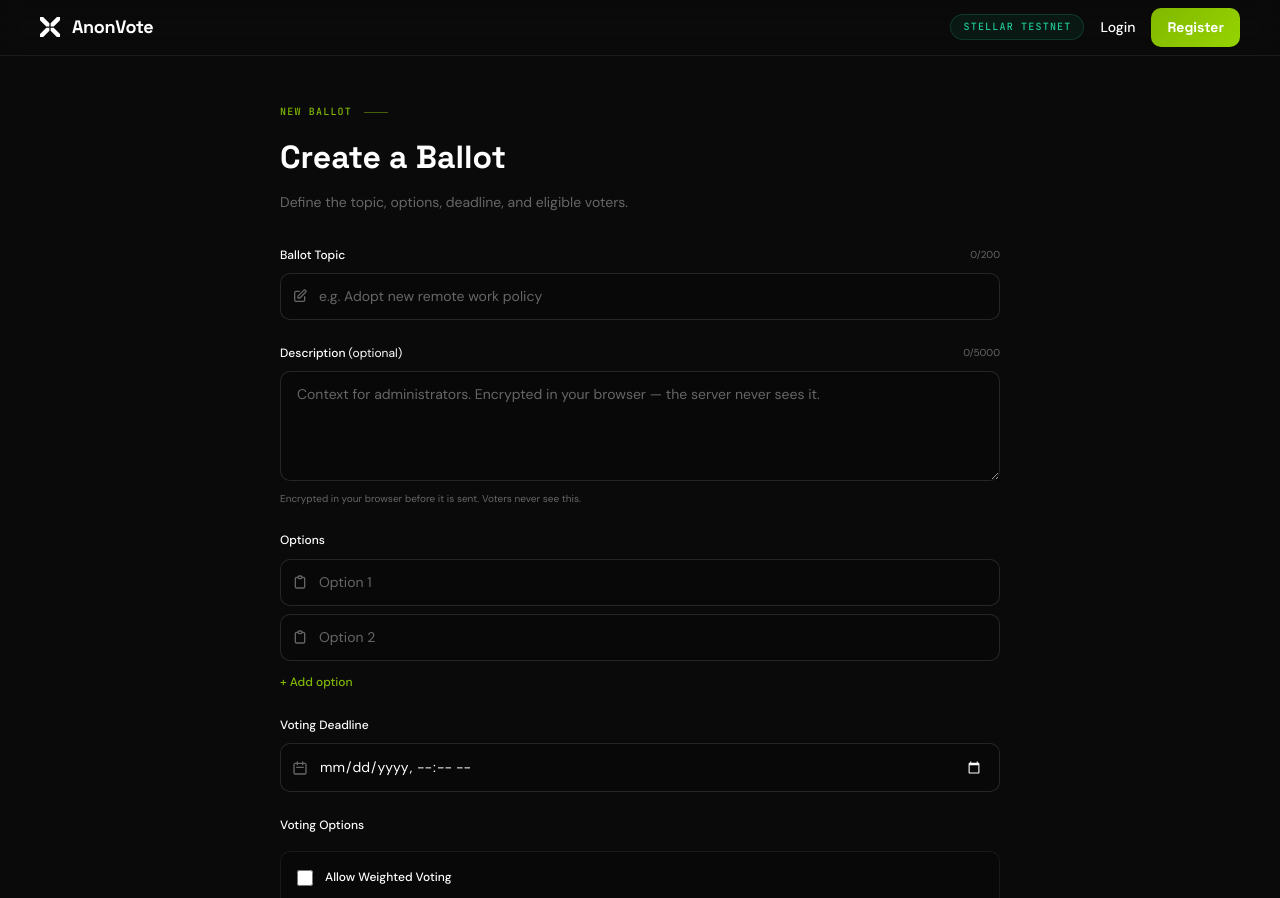
Test: CreateBallotPage › dynamic options: can add and remove options
The image size is (1280, 898).
Add up to 3 options
Click the button "+ Add option" at (316, 682), box x1=280 y1=672 x2=353 y2=692
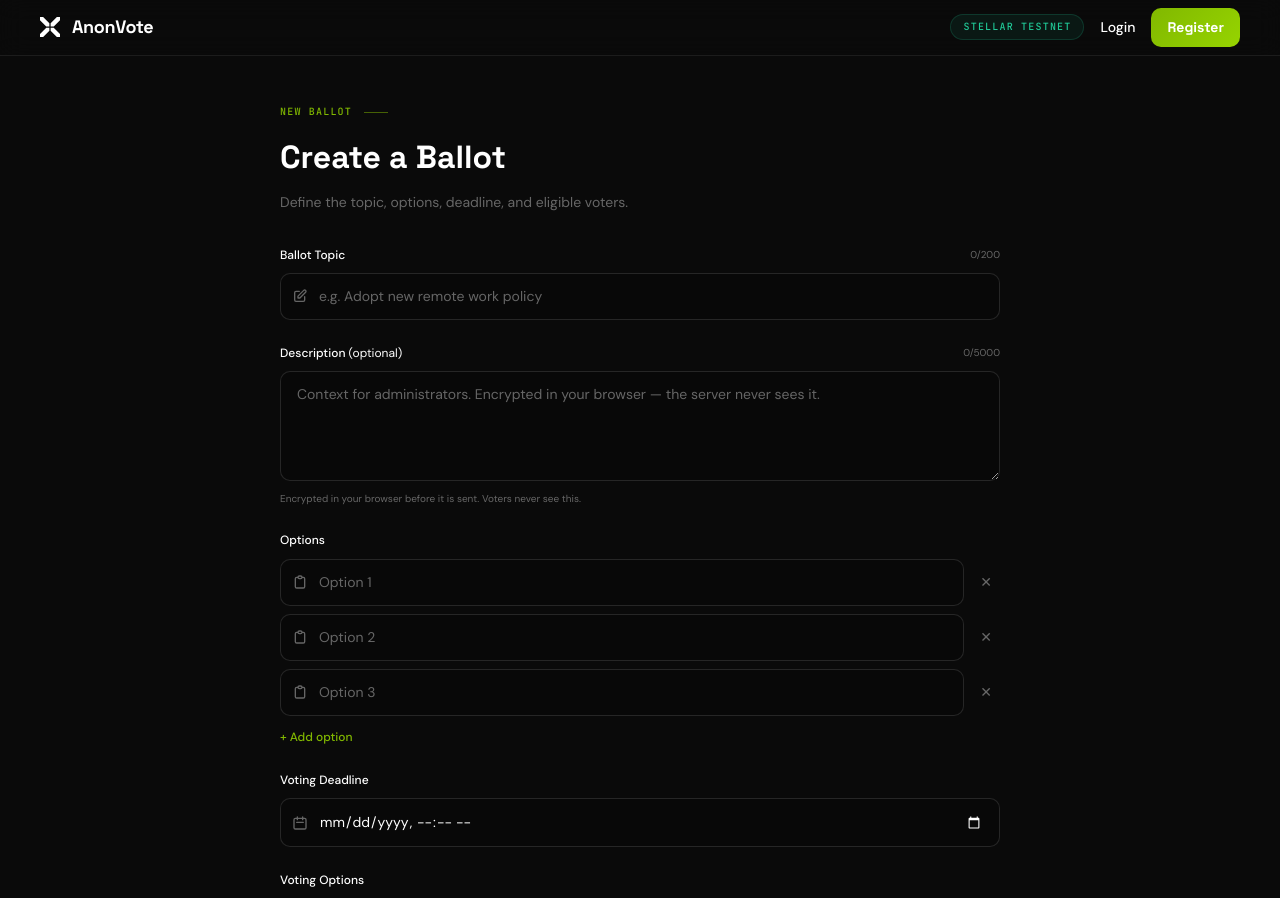
Result: the number of fields with placeholder "Option 1" is 3 at x1=280 y1=558 x2=964 y2=606; x1=280 y1=614 x2=964 y2=660; x1=280 y1=668 x2=964 y2=716
Remove the last option
Click the 3rd button titled "Remove option" at (986, 692), box x1=972 y1=673 x2=1000 y2=711
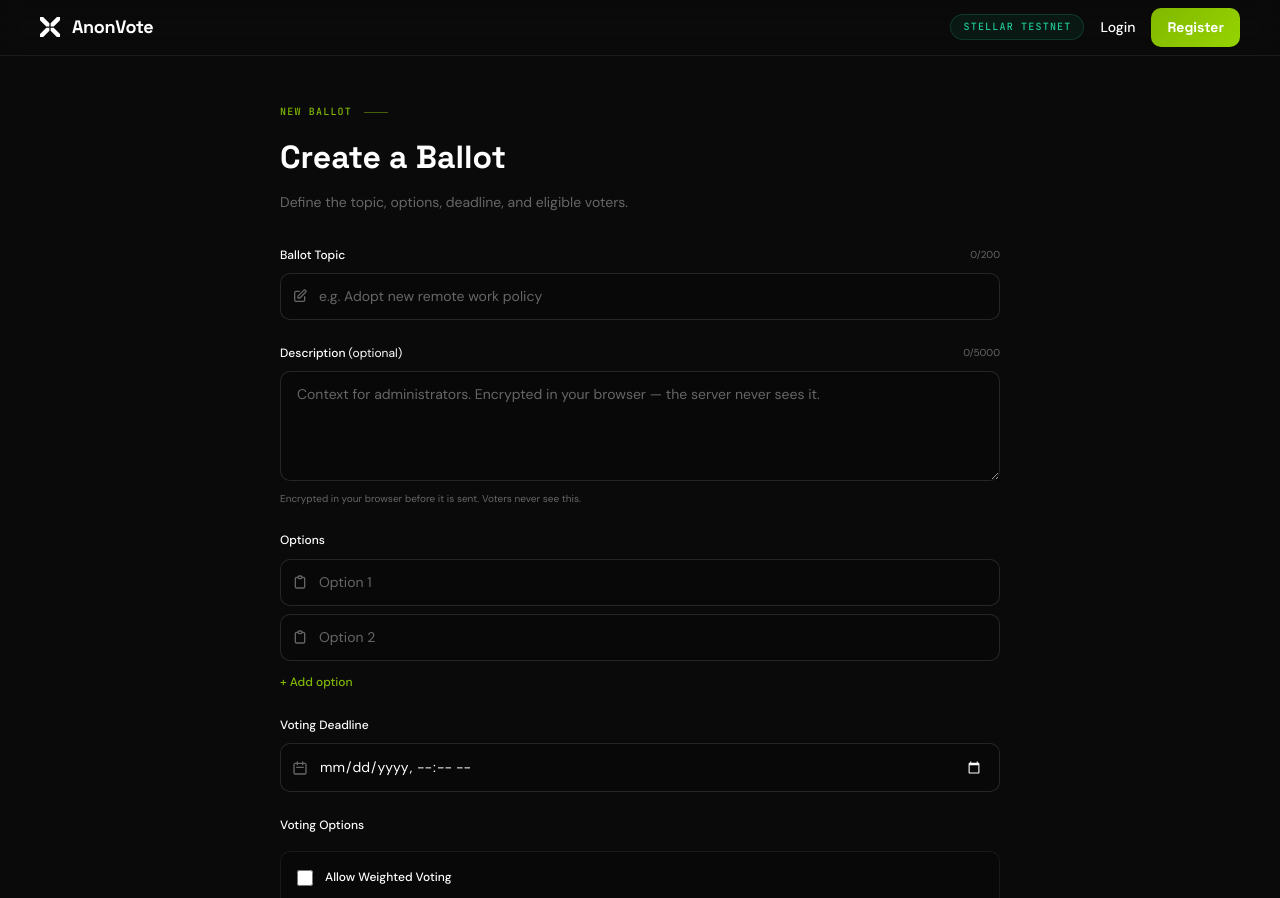
Result: the number of fields with placeholder "Option 1" is 2 at x1=280 y1=558 x2=1000 y2=606; x1=280 y1=614 x2=1000 y2=660
